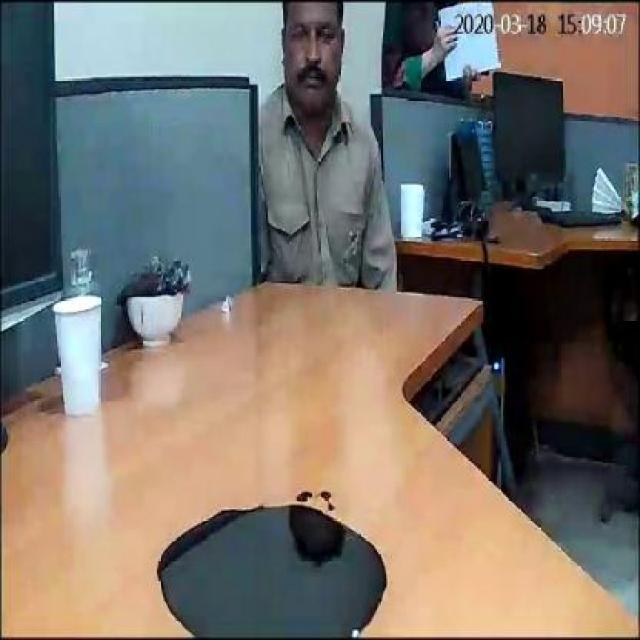spill: (138, 496, 387, 635)
